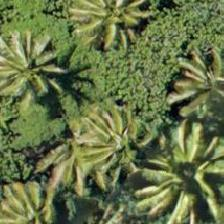coconut_tree: (69, 91, 159, 181), (140, 126, 223, 216), (149, 37, 223, 127), (0, 16, 63, 106), (64, 0, 154, 50), (0, 176, 72, 223)
